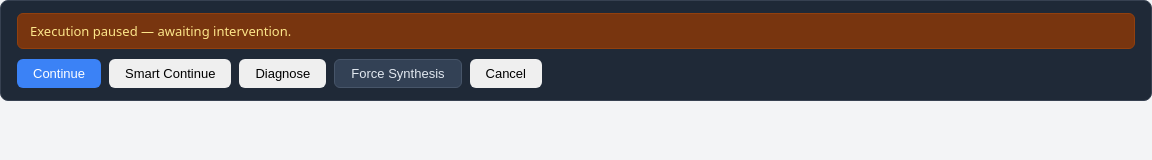
Test: SwarmStatusWindow › surfaces a terminal-state message on 410 response
The image size is (1152, 160).
Click the button "Smart Continue" at (170, 74), box top-left (109, 59), bottom-right (231, 88)
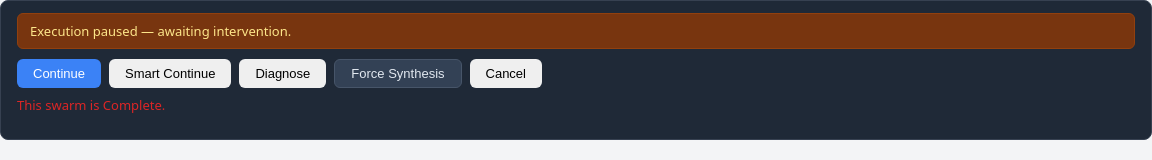
Check: the text "This swarm is Complete." is shown, box top-left (17, 96), bottom-right (165, 114)
